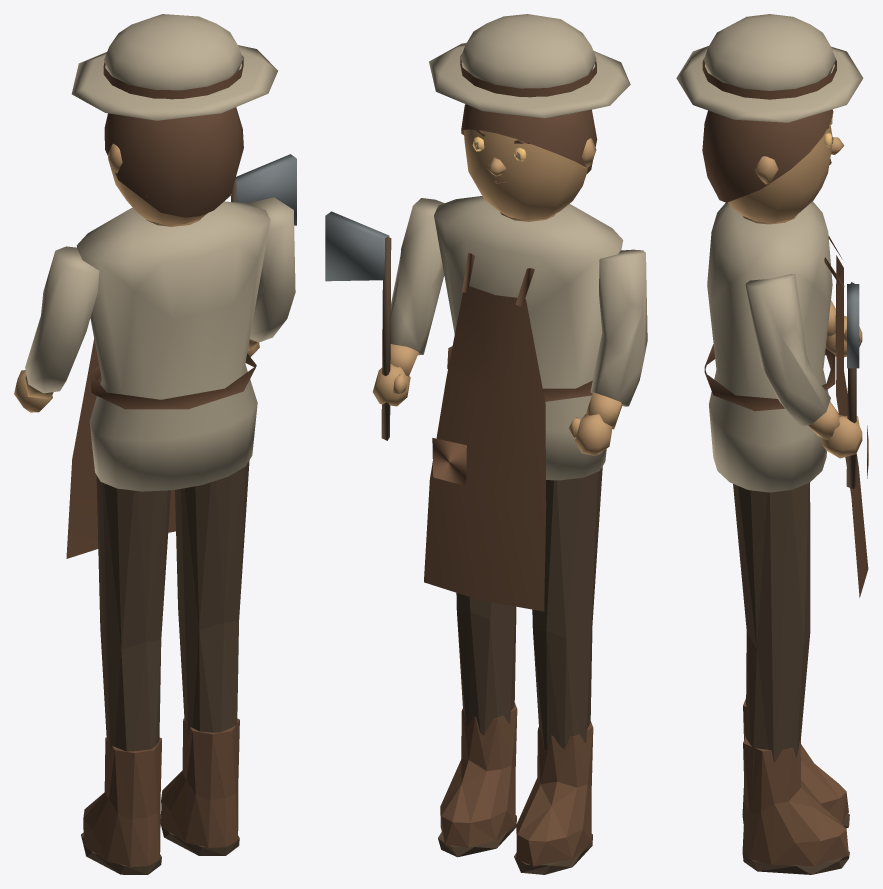
The model's file is SM_NPC_CARP_MEDIA.glb.
The picture shows the model from 3 angles, left to right: view 1: azimuth 30°, elevation 25°; view 2: azimuth 150°, elevation 25°; view 3: azimuth 270°, elevation 25°; orthographic projection. The views are drawn at different scales.
Visible parts, largest first — view 1: SM_NPC_CARP_BODY, SM_NPC_CARP_HEAD, SM_NPC_CARP_ARM_L, SM_NPC_CARP_ARM_R; view 2: SM_NPC_CARP_BODY, SM_NPC_CARP_HEAD, SM_NPC_CARP_ARM_R, SM_NPC_CARP_ARM_L; view 3: SM_NPC_CARP_BODY, SM_NPC_CARP_HEAD, SM_NPC_CARP_ARM_R, SM_NPC_CARP_ARM_L.
Boxes of the visible parts, x1=… form: SM_NPC_CARP_BODY: x1=66, y1=201, x2=270, y2=874; SM_NPC_CARP_HEAD: x1=71, y1=14, x2=277, y2=224; SM_NPC_CARP_ARM_L: x1=14, y1=246, x2=99, y2=412; SM_NPC_CARP_ARM_R: x1=231, y1=154, x2=296, y2=356; SM_NPC_CARP_BODY: x1=424, y1=196, x2=623, y2=874; SM_NPC_CARP_HEAD: x1=429, y1=14, x2=630, y2=220; SM_NPC_CARP_ARM_R: x1=325, y1=198, x2=444, y2=440; SM_NPC_CARP_ARM_L: x1=568, y1=249, x2=647, y2=455; SM_NPC_CARP_BODY: x1=704, y1=201, x2=868, y2=874; SM_NPC_CARP_HEAD: x1=676, y1=14, x2=863, y2=222; SM_NPC_CARP_ARM_R: x1=745, y1=273, x2=862, y2=488; SM_NPC_CARP_ARM_L: x1=825, y1=300, x2=862, y2=357.
Size of the model in its own units: 0.688 by 1.89 by 0.4017.
